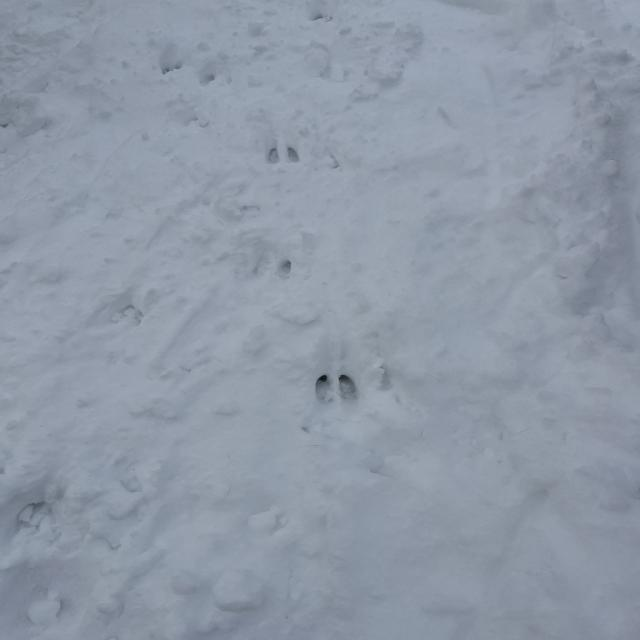deer: (312, 375, 356, 406), (263, 144, 305, 164)
